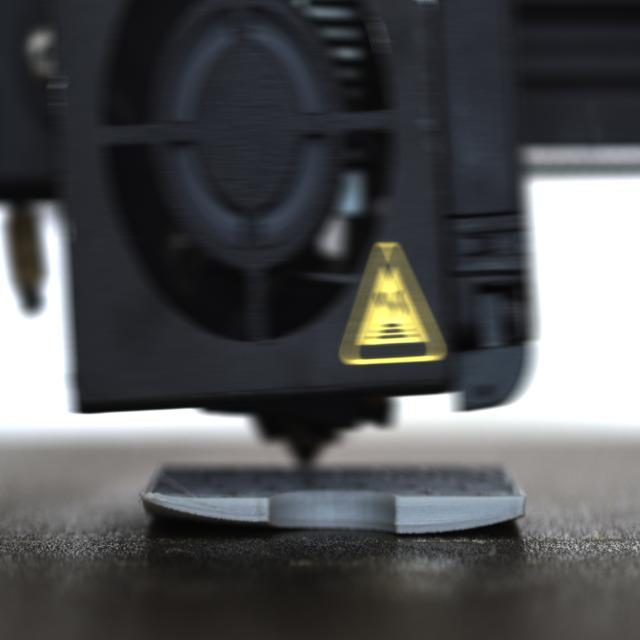Warping: (136, 488, 248, 530), (449, 506, 531, 536)
